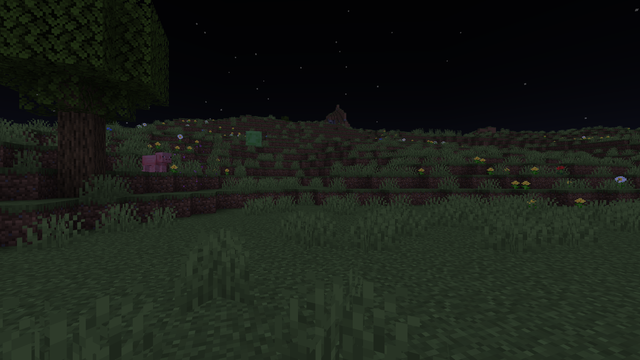cochons: (141, 154, 165, 168)
slimes: (245, 130, 262, 146)
